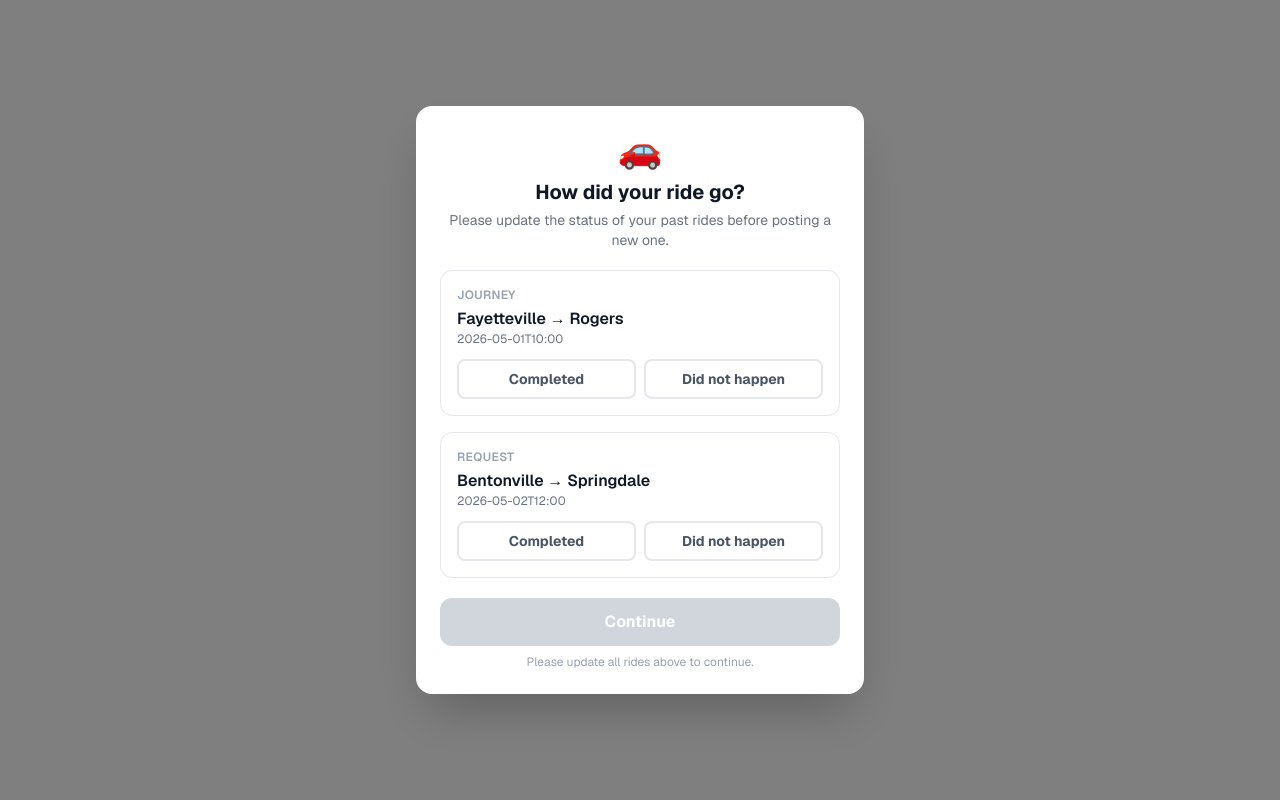
Test: CompletionPromptModal › Continue button is enabled when all items are answered
The width and height of the screenshot is (1280, 800).
Click the button "Completed" below "2026-05-01T10:00".
click(546, 379)  # box x1=457 y1=359 x2=636 y2=399
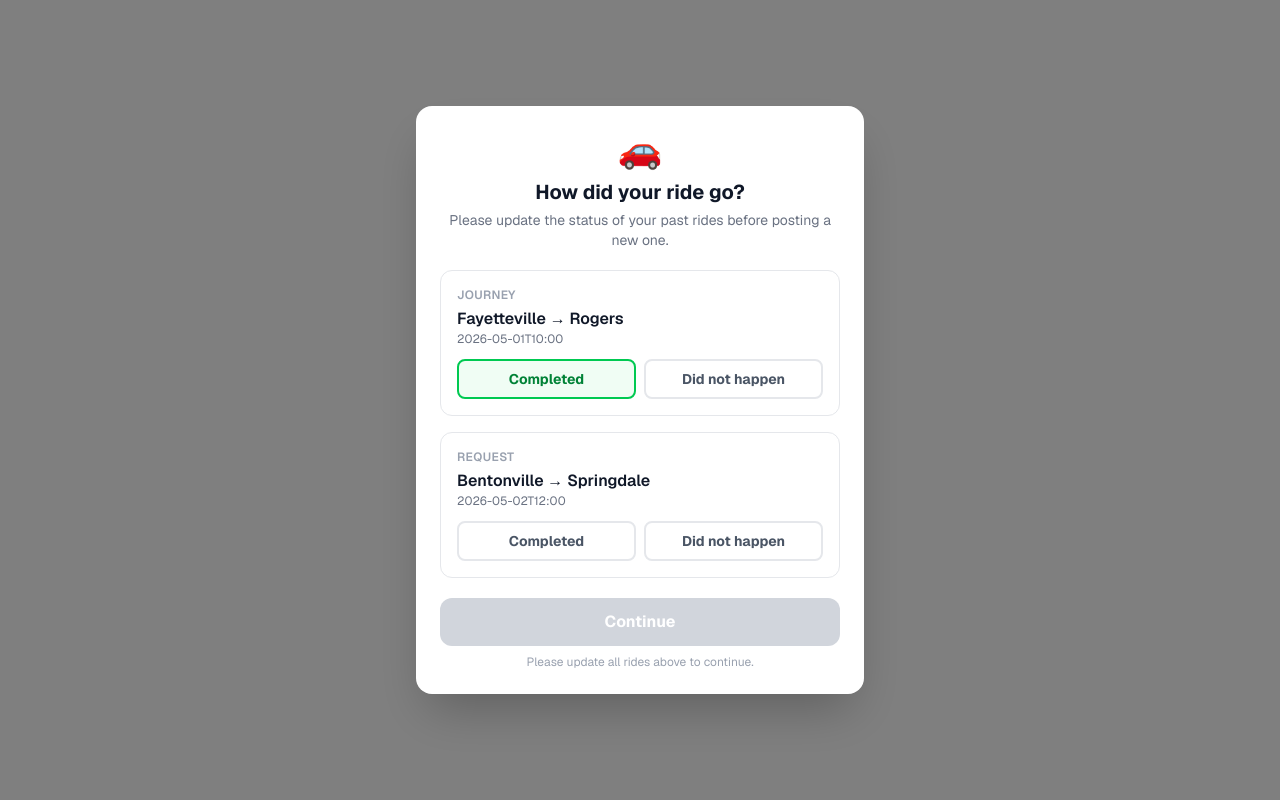
Click the button "Completed" below "2026-05-02T12:00".
click(546, 541)  # box x1=457 y1=521 x2=636 y2=561
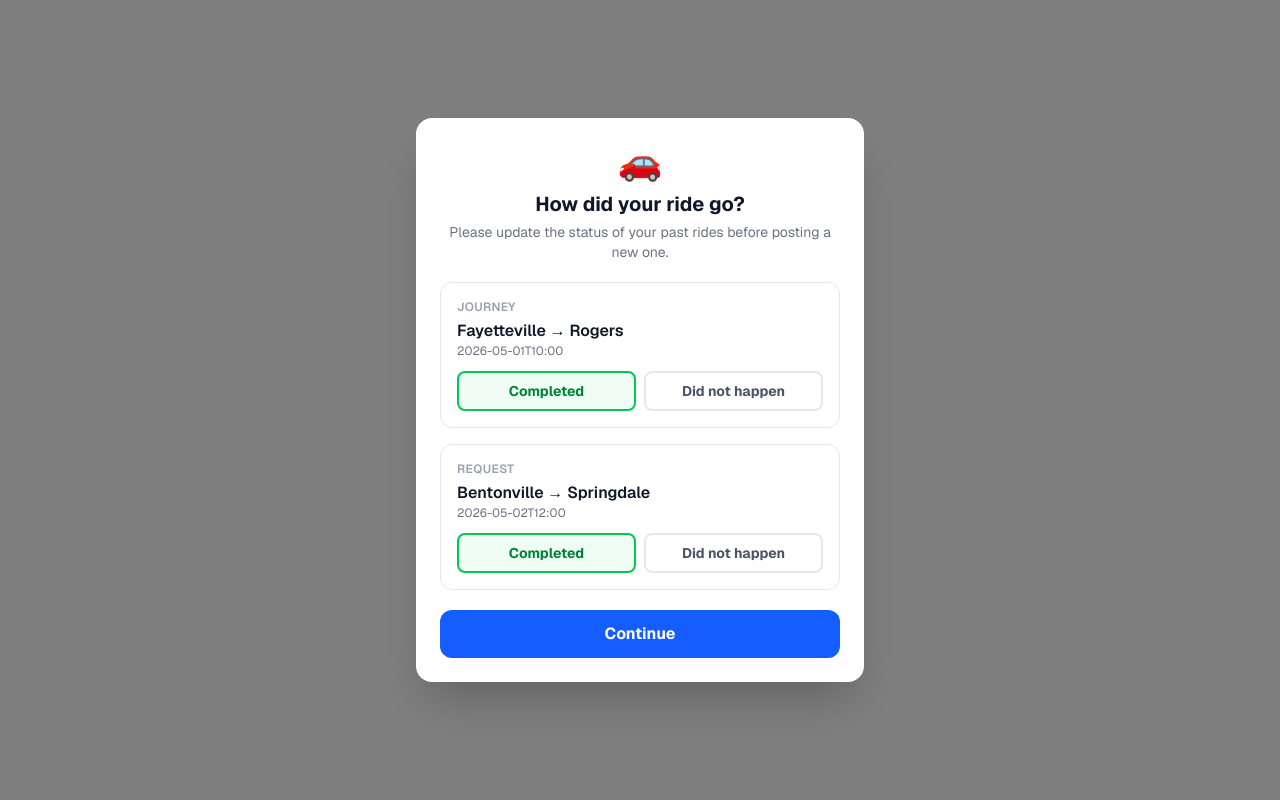
Check: the button "Continue" is enabled, box x1=440 y1=610 x2=840 y2=658
